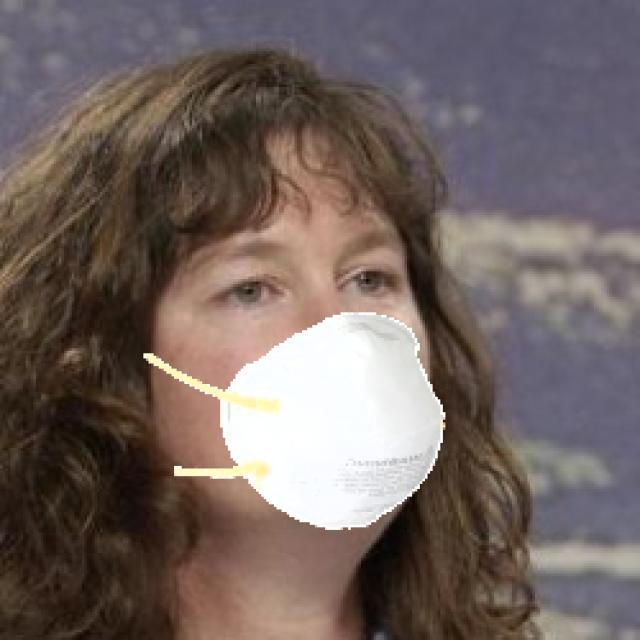mask: (137, 291, 451, 547)
